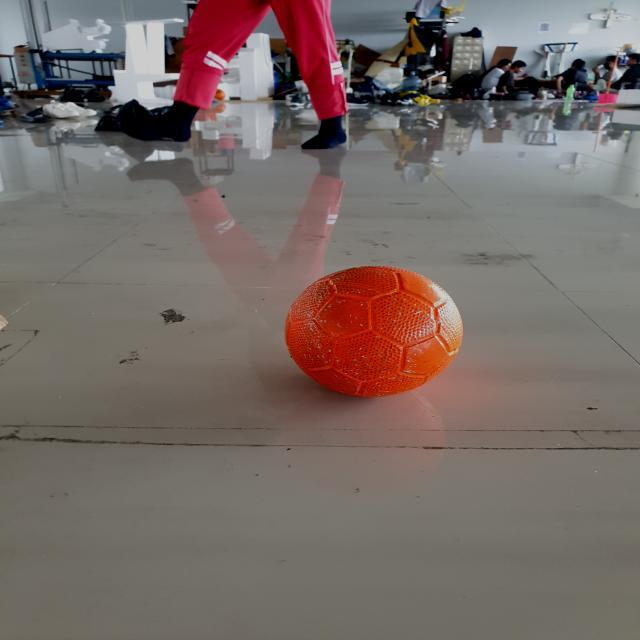bola: (268, 250, 474, 425)
